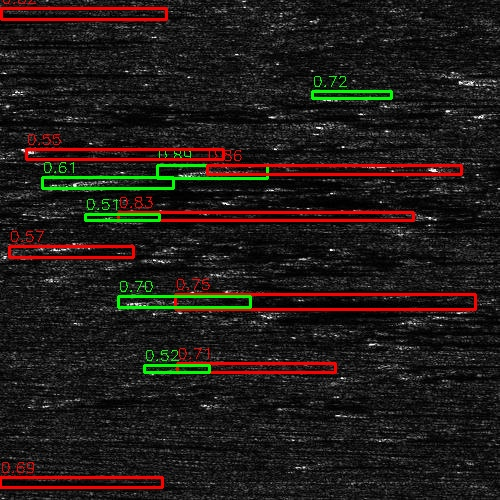rock: (15, 109, 182, 124), (95, 172, 178, 187), (170, 166, 275, 177), (344, 338, 437, 347), (381, 313, 454, 324), (453, 104, 500, 121), (0, 185, 80, 194), (83, 212, 156, 221), (261, 308, 314, 317), (0, 110, 24, 129), (436, 75, 500, 82), (0, 152, 47, 159), (7, 86, 60, 91), (99, 145, 140, 150), (148, 298, 189, 303), (154, 367, 195, 370)
shadow: (99, 109, 401, 124), (0, 110, 226, 129), (137, 172, 391, 187), (120, 212, 500, 221), (223, 166, 500, 177), (34, 185, 279, 194), (288, 308, 499, 317), (1, 152, 241, 159), (169, 298, 472, 303), (0, 475, 103, 488), (120, 145, 370, 150), (0, 68, 119, 77), (391, 338, 500, 347), (418, 313, 500, 324), (34, 86, 181, 91), (0, 54, 52, 63), (175, 367, 330, 370)
